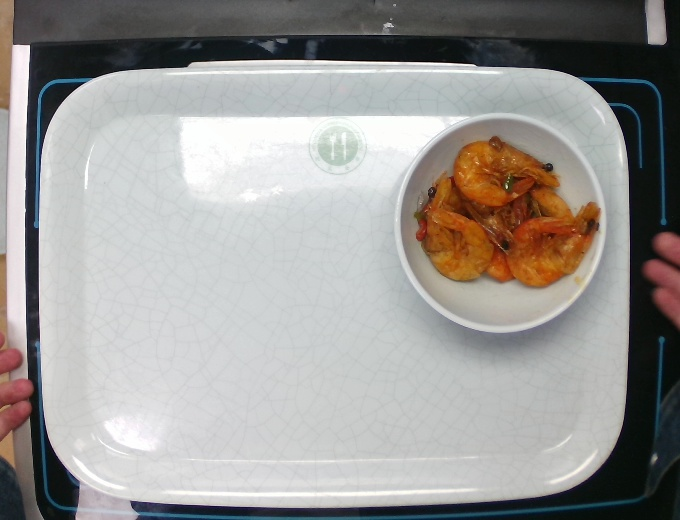JYsf-Fan_Wan: (382, 104, 611, 344)
